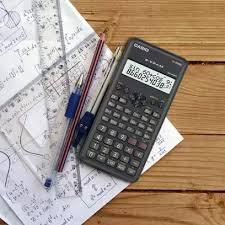Calculator: (73, 36, 191, 185)
